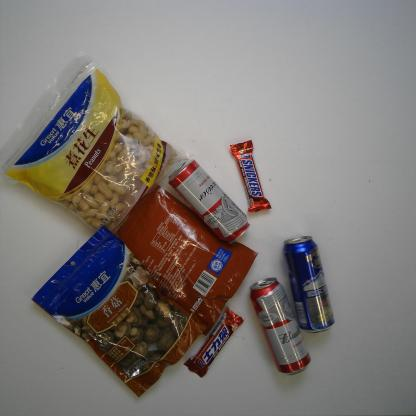Alcohol: (168, 158, 251, 245), (249, 276, 312, 377), (281, 234, 336, 336)
Chocolate: (183, 306, 245, 379), (228, 138, 272, 214)
Dried Food: (0, 48, 189, 235), (29, 224, 209, 399), (115, 182, 259, 337)
